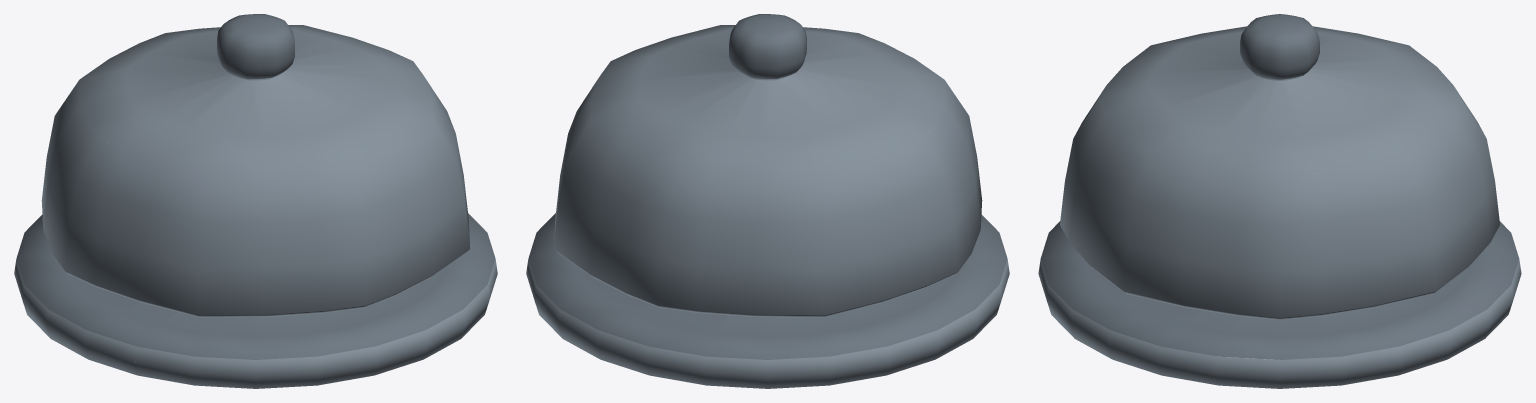
Rendered from Bell.fbx.
The picture shows the model from 3 angles, left to right: view 1: azimuth 30°, elevation 25°; view 2: azimuth 150°, elevation 25°; view 3: azimuth 270°, elevation 25°; orthographic projection.
Parts seen in each view (by area): view 1: Circle; view 2: Circle; view 3: Circle.
Boxes of the visible parts, bbox=[...] form: Circle: bbox=[14, 14, 497, 388]; Circle: bbox=[526, 14, 1009, 388]; Circle: bbox=[1038, 14, 1521, 388].
Size of the model in its own units: 204 by 124 by 204.
